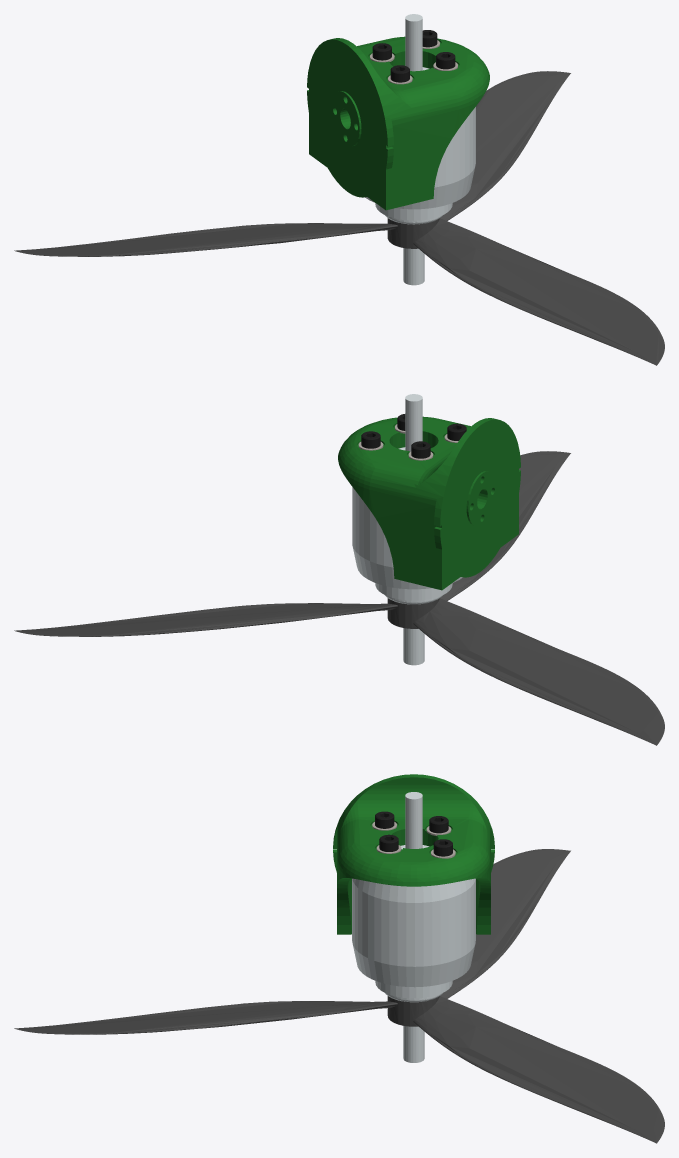
Rendered from arm_servo.dae.
3 views of the same model, one above another, from view 1: azimuth 30°, elevation 25°; view 2: azimuth 150°, elevation 25°; view 3: azimuth 270°, elevation 25° (orthographic).
Visible parts, largest first — view 1: Shape_IndexedFaceSet.001; view 2: Shape_IndexedFaceSet.001; view 3: Shape_IndexedFaceSet.001.
Boxes of the visible parts, left/top/right/bottom form: Shape_IndexedFaceSet.001: left=14, top=14, right=664, bottom=365; Shape_IndexedFaceSet.001: left=14, top=394, right=664, bottom=745; Shape_IndexedFaceSet.001: left=14, top=774, right=664, bottom=1143.
Bounding box in the file's own units: 0.1969 × 0.185 × 0.0825.
